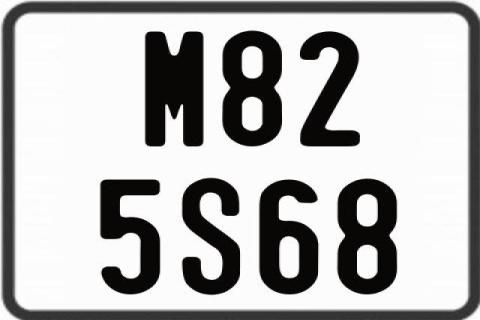0: (219, 31, 283, 151), (98, 179, 162, 299), (334, 178, 398, 296), (300, 29, 363, 145), (258, 180, 317, 300)
M: (142, 29, 202, 148)
S: (182, 175, 242, 292)
